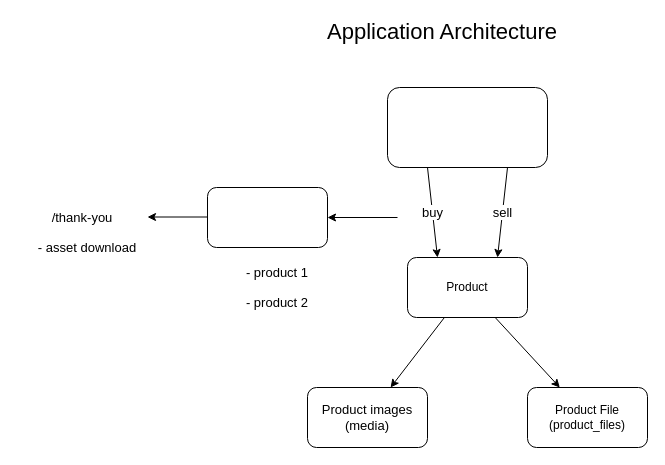
Image size: 665x465. Some labels were removed from this diagram. Each missing label, with the centre of its shape:
"Order" goes at (267,217).
"User" goes at (467,127).
